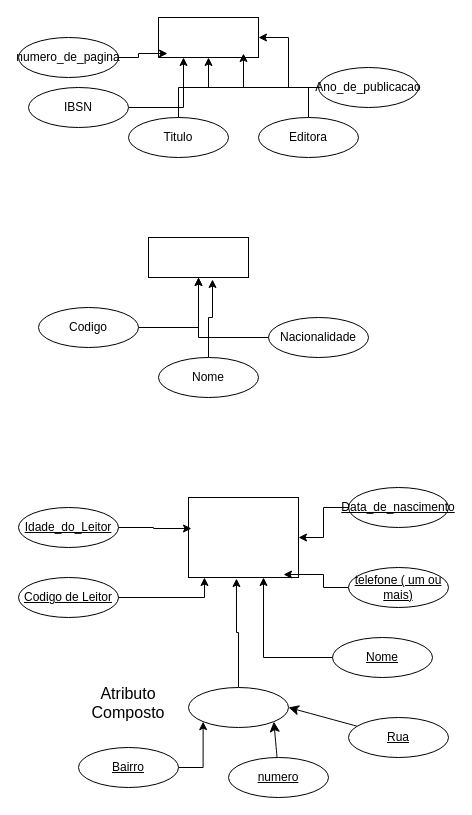
The diagram is 472 pixels wide and 815 high, and some of its shapes have lost their labels. Each missing label, with the box of its shape:
Autores: (148, 236, 248, 278)
Endereço: (188, 686, 288, 728)
Leitor: (188, 496, 298, 578)
Livro: (158, 16, 258, 58)
